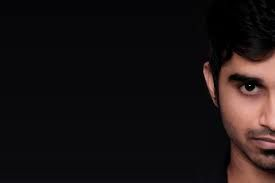no-mask: (200, 19, 275, 173)
